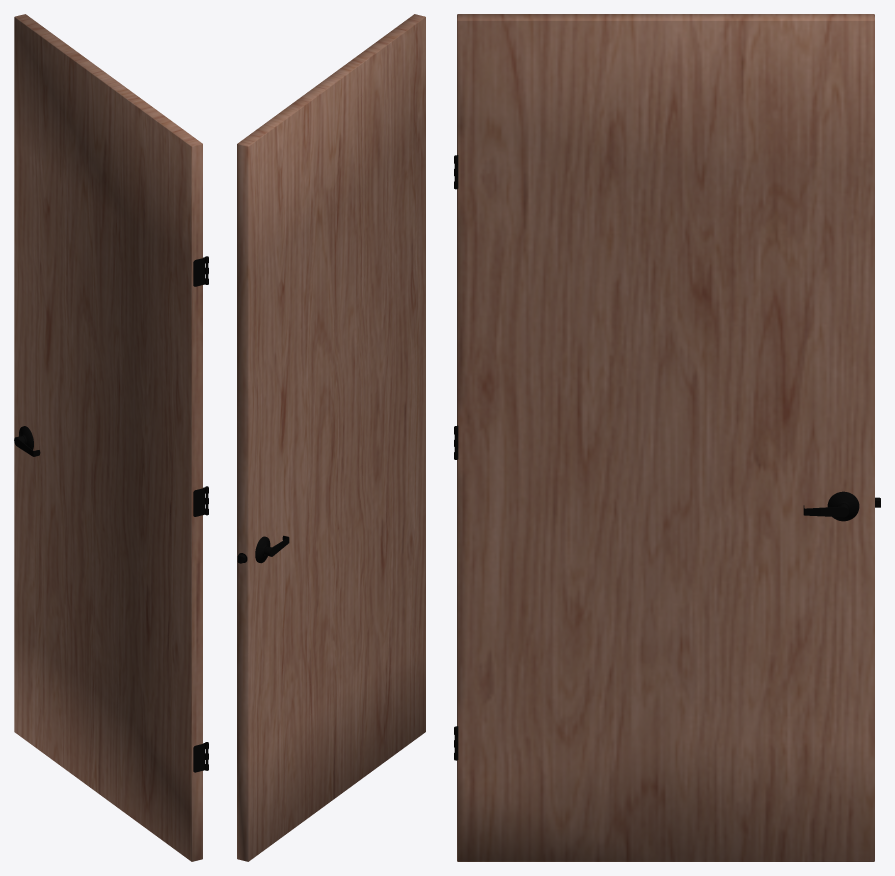
The model's file is visual_Door_right_door_zero_panel_wood_dark.dae.
The picture shows the model from 3 angles, left to right: view 1: azimuth 30°, elevation 25°; view 2: azimuth 150°, elevation 25°; view 3: azimuth 270°, elevation 25°; orthographic projection. The views are drawn at different scales.
Parts seen in each view (by area): view 1: visual_Door_right_door_zero_panel_wood_dark; view 2: visual_Door_right_door_zero_panel_wood_dark; view 3: visual_Door_right_door_zero_panel_wood_dark.
Part boxes in pixels (x1=…): visual_Door_right_door_zero_panel_wood_dark: x1=14, y1=14, x2=208, y2=861; visual_Door_right_door_zero_panel_wood_dark: x1=237, y1=14, x2=425, y2=861; visual_Door_right_door_zero_panel_wood_dark: x1=454, y1=14, x2=880, y2=861.
Size of the model in its own units: 0.099 by 0.9313 by 2.03.
1 material, 1 textured.
